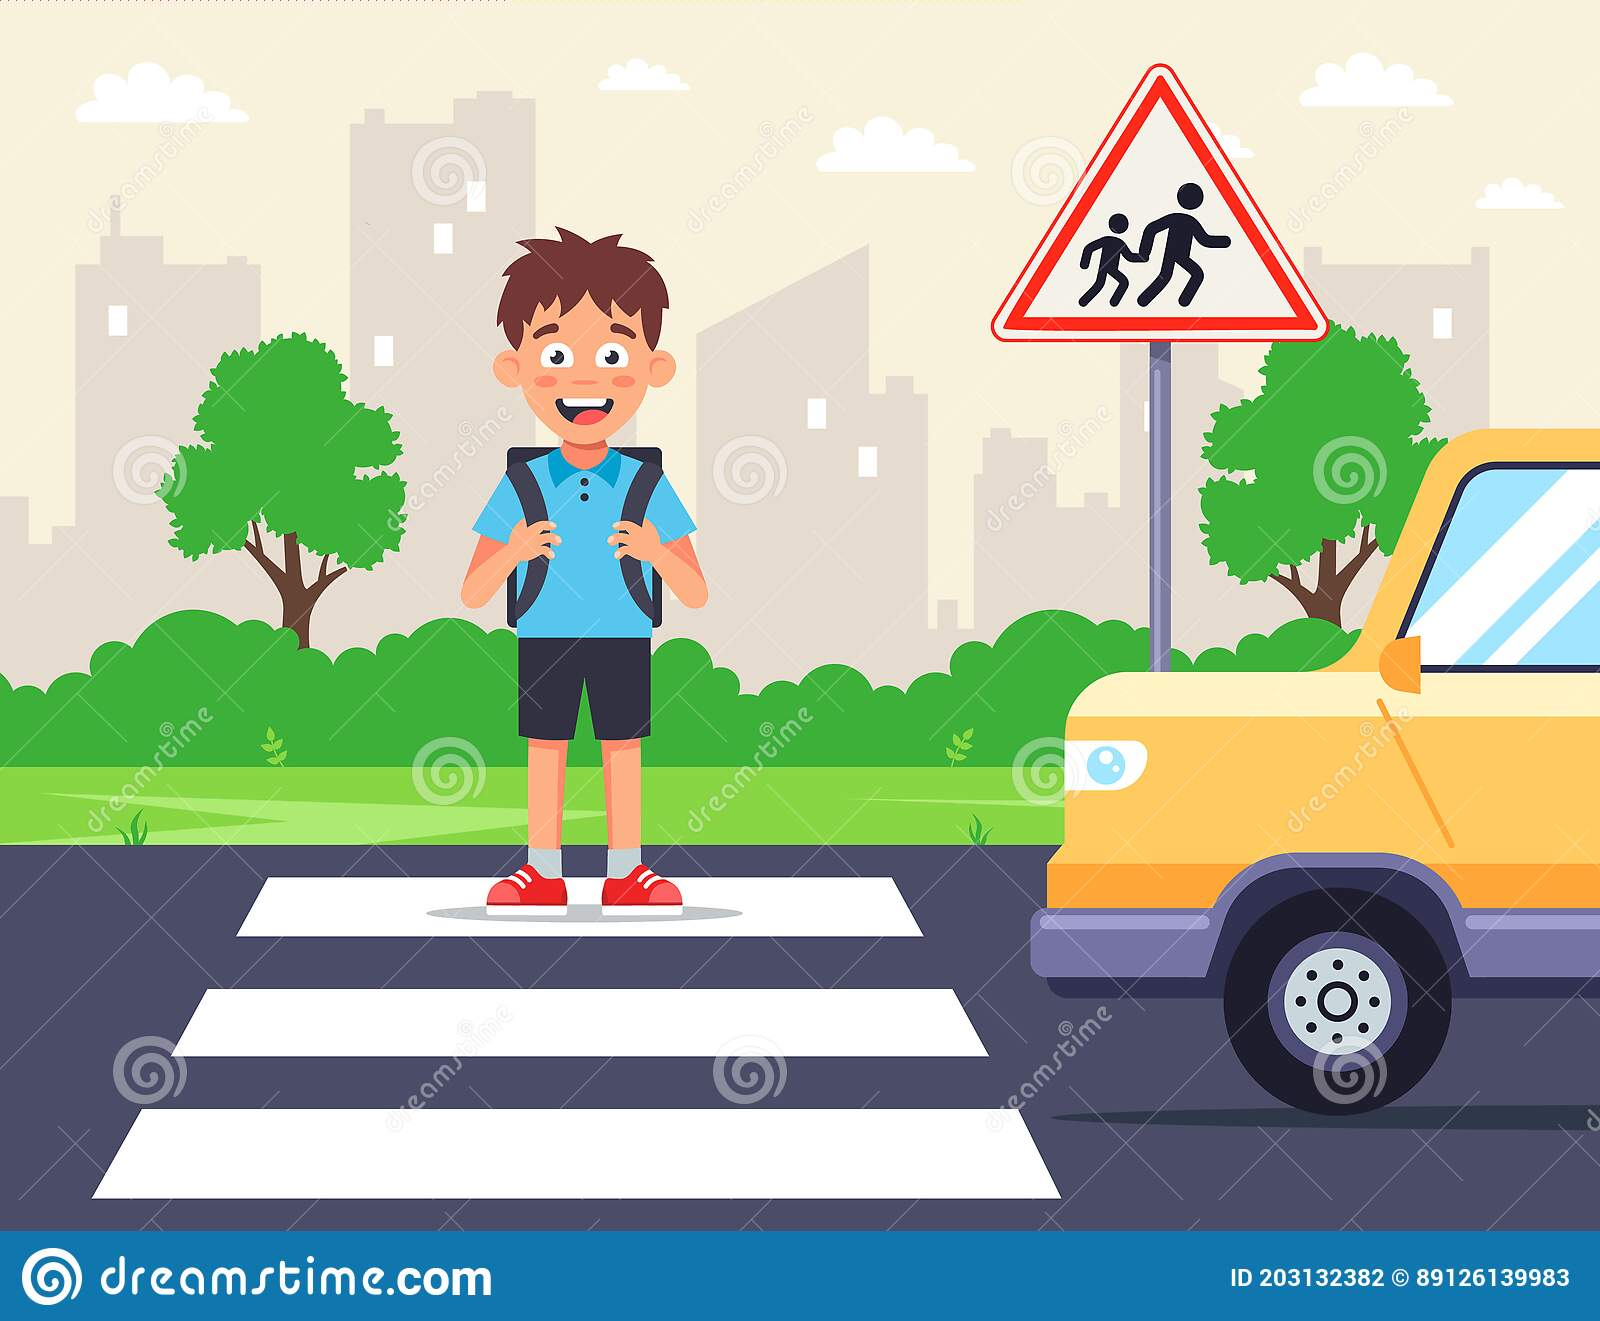pedestrian: (992, 60, 1313, 343)
